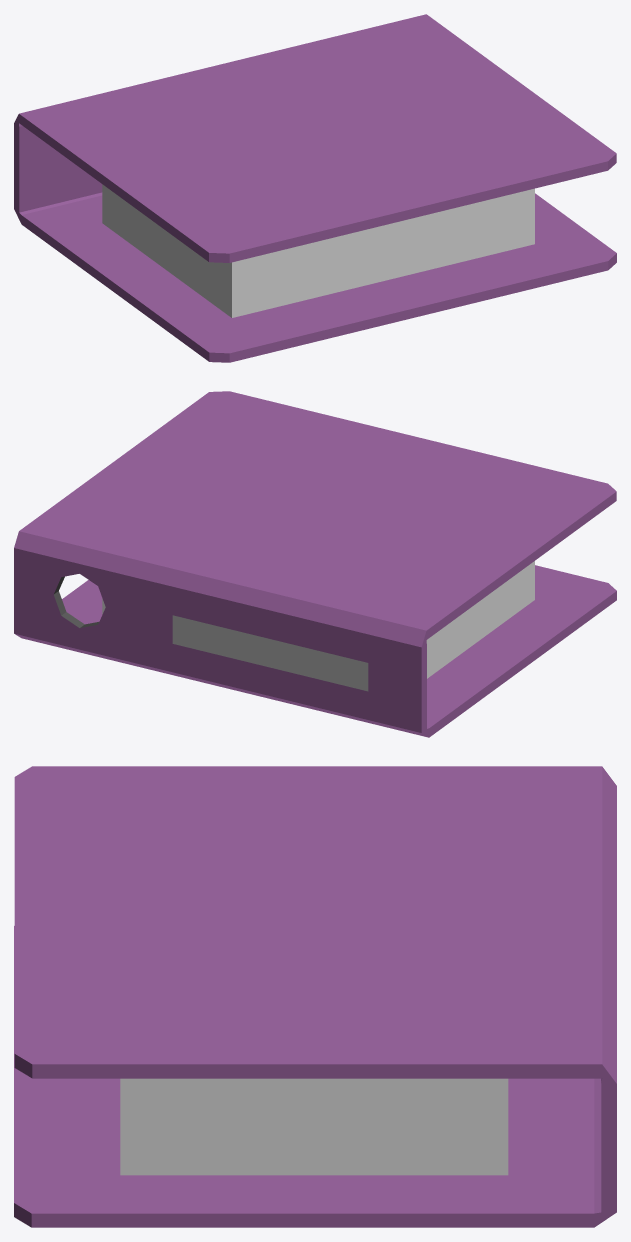
File: Mappe_Lilla.fbx
3 views of the same model, one above another, from view 1: azimuth 30°, elevation 25°; view 2: azimuth 150°, elevation 25°; view 3: azimuth 270°, elevation 25° (orthographic). The views are drawn at different scales.
Visible parts, largest first — view 1: Mappe, Mappestak; view 2: Mappe, Mappestak; view 3: Mappe, Mappestak.
Boxes of the visible parts, bbox=[...] form: Mappe: bbox=[14, 14, 616, 362]; Mappestak: bbox=[102, 184, 534, 317]; Mappe: bbox=[14, 391, 616, 737]; Mappestak: bbox=[102, 561, 534, 678]; Mappe: bbox=[14, 766, 616, 1227]; Mappestak: bbox=[120, 1078, 508, 1175].
Size of the model in its own units: 141 by 35.95 by 120.
